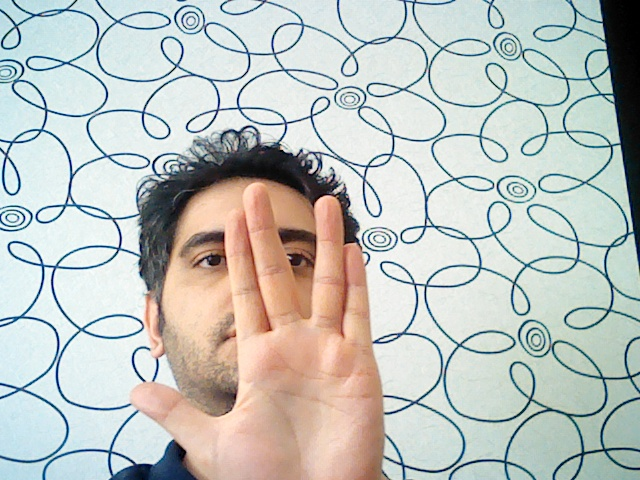LiveLong: (131, 181, 385, 480)
